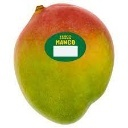mango: (14, 3, 114, 125)
